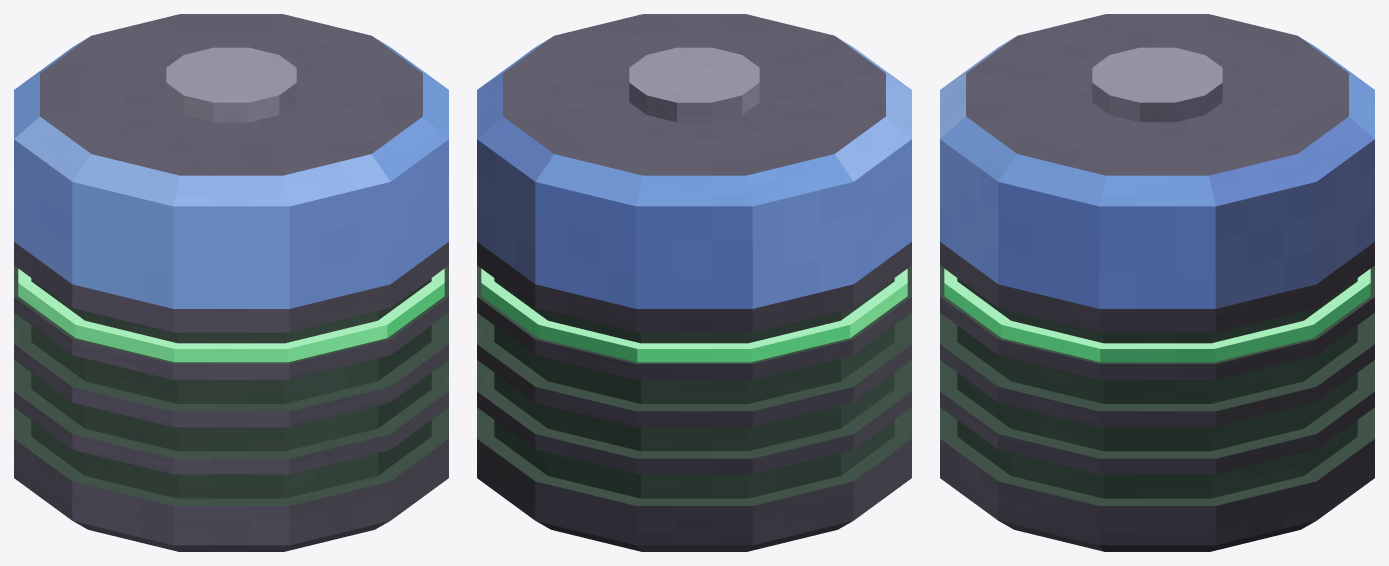
File: battery.glb
3 views of the same model, side by side, from view 1: azimuth 30°, elevation 25°; view 2: azimuth 150°, elevation 25°; view 3: azimuth 270°, elevation 25° (orthographic).
Parts seen in each view (by area): view 1: battery_body, battery_seg; view 2: battery_body, battery_seg; view 3: battery_body, battery_seg.
Part boxes in pixels (x1,y1,x2,y2): battery_body: (14, 14, 448, 551); battery_seg: (18, 268, 444, 362); battery_body: (477, 14, 911, 551); battery_seg: (481, 268, 907, 362); battery_body: (940, 14, 1374, 551); battery_seg: (944, 268, 1370, 362).
Bounding box in the file's own units: 1 × 1 × 1.
Materials: 1 (1 with a texture image).
